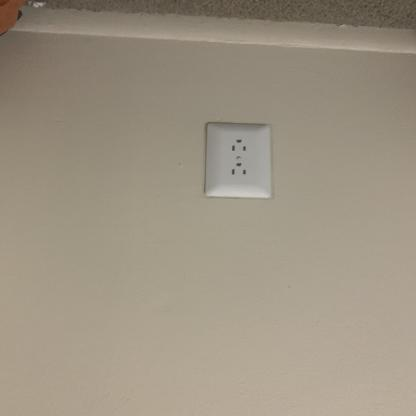OUTLET: (204, 123, 274, 197)
